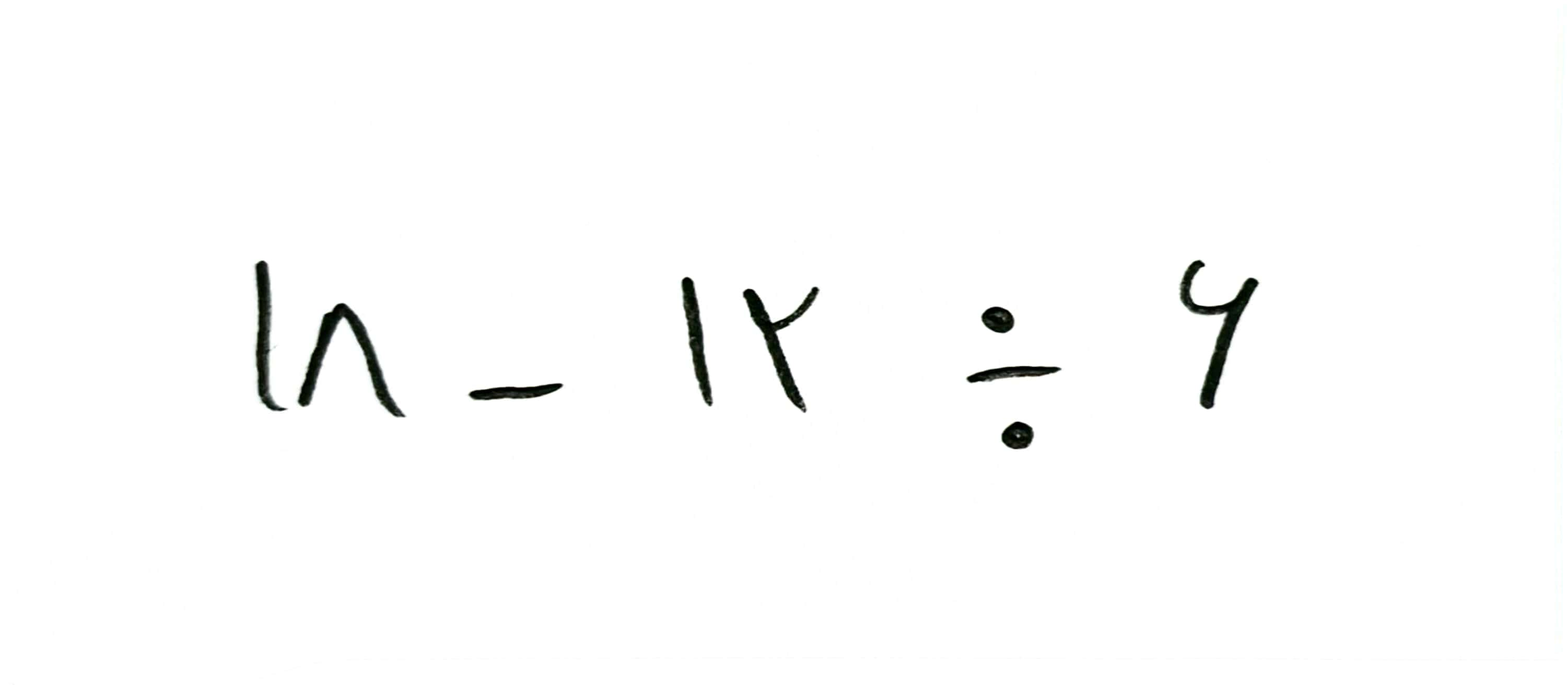character: (966, 306, 1063, 450), (1177, 260, 1259, 410), (298, 303, 405, 417), (742, 286, 822, 414), (254, 260, 288, 422), (680, 276, 715, 407), (467, 382, 564, 399)
